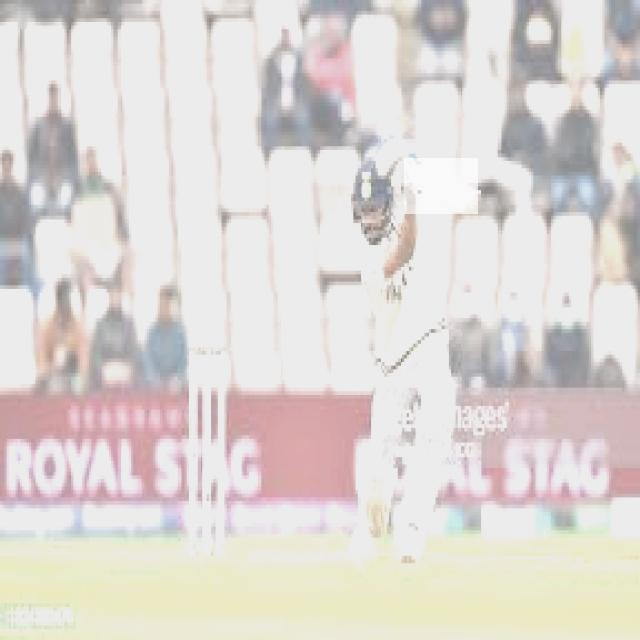bat: (402, 158, 480, 217)
toe: (451, 177, 477, 215)
